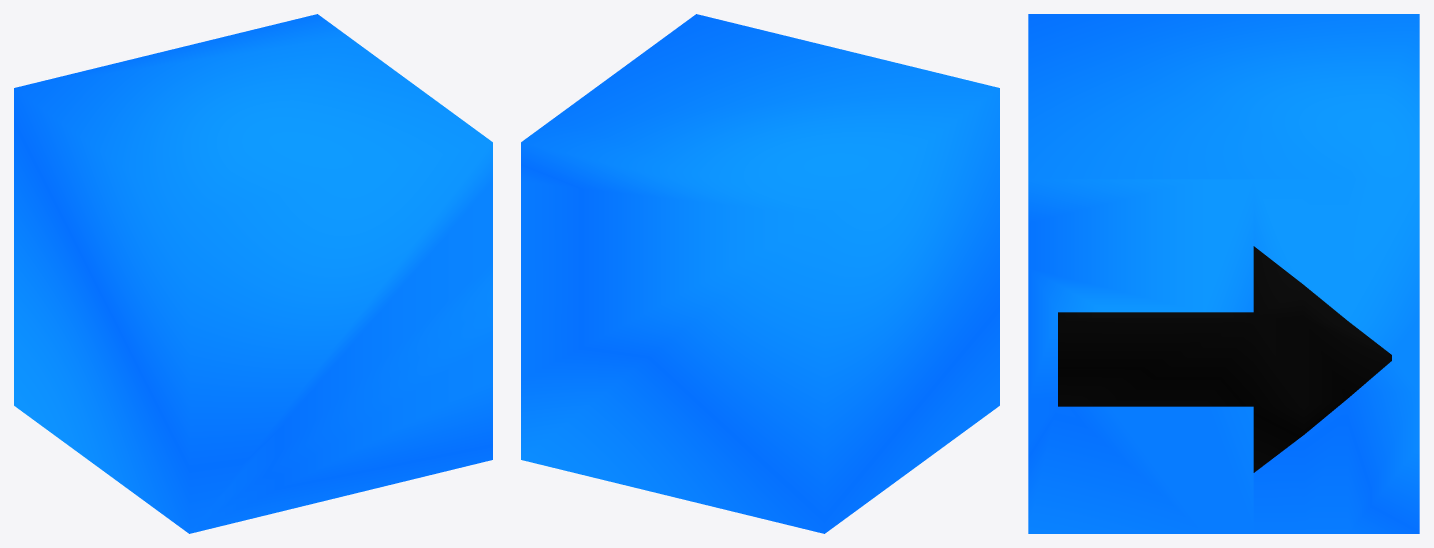
The model's file is Block_L.fbx.
3 renders of one model, left to right at view 1: azimuth 30°, elevation 25°; view 2: azimuth 150°, elevation 25°; view 3: azimuth 270°, elevation 25°, orthographic. The views are drawn at different scales.
Parts seen in each view (by area): view 1: Cube; view 2: Cube; view 3: Cube.
Part boxes in pixels (x1,y1,x2,y2): Cube: (14,14,492,533); Cube: (521,14,999,533); Cube: (1028,14,1419,533).
Bounding box in the file's own units: 207 × 200 × 200.
